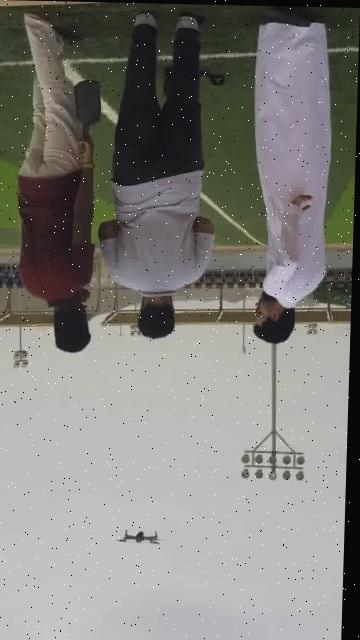drone: (114, 525, 169, 548)
